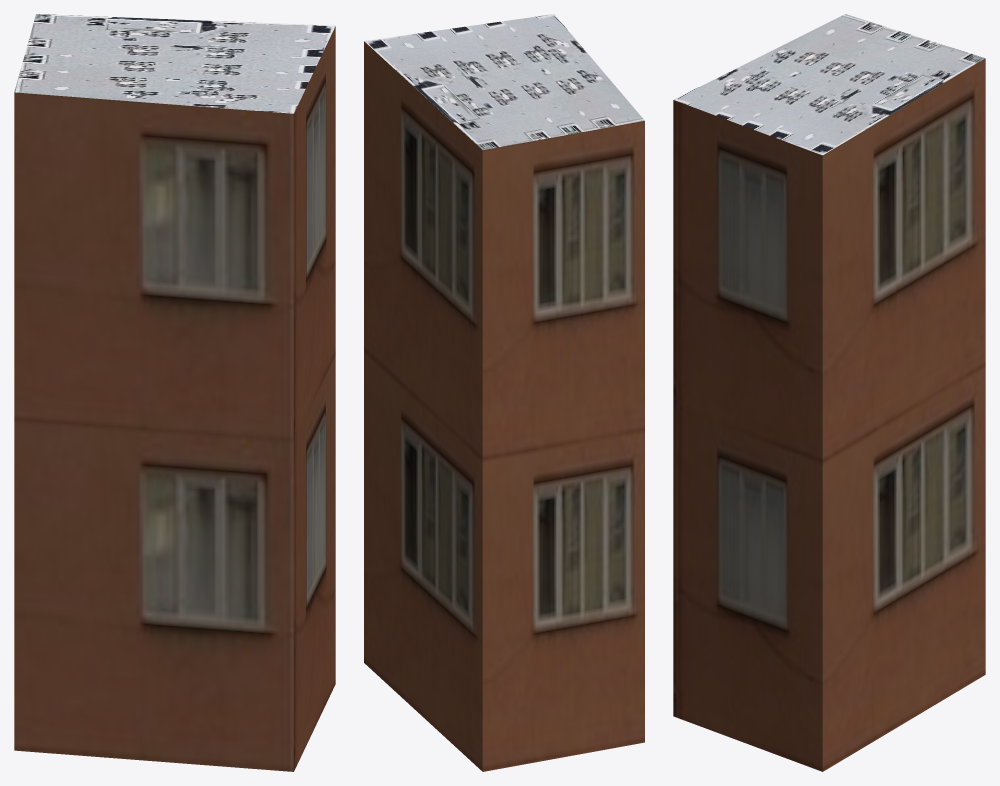
File: ResTex__3246.fbx
3 views of the same model, side by side, from view 1: azimuth 30°, elevation 25°; view 2: azimuth 150°, elevation 25°; view 3: azimuth 270°, elevation 25° (orthographic). The views are drawn at different scales.
Parts seen in each view (by area): view 1: CityEngineMaterial_20_m, CityEngineMaterial_m; view 2: CityEngineMaterial_20_m, CityEngineMaterial_m; view 3: CityEngineMaterial_20_m, CityEngineMaterial_m.
Part boxes in pixels (bbox=[...]): CityEngineMaterial_20_m: bbox=[14, 26, 335, 771]; CityEngineMaterial_m: bbox=[14, 14, 335, 113]; CityEngineMaterial_20_m: bbox=[364, 41, 644, 771]; CityEngineMaterial_m: bbox=[364, 14, 644, 149]; CityEngineMaterial_20_m: bbox=[673, 58, 985, 771]; CityEngineMaterial_m: bbox=[673, 14, 985, 155].
Size of the model in its own units: 2.95 by 6 by 2.75.
Materials: 2 (2 with a texture image).
